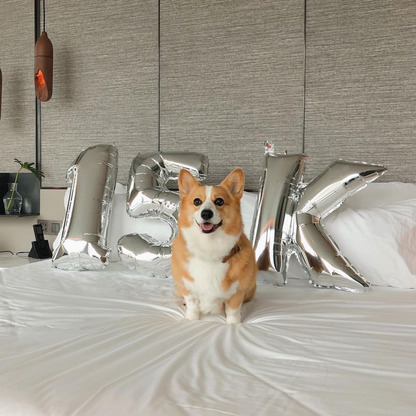Corgi: (166, 167, 264, 331)
